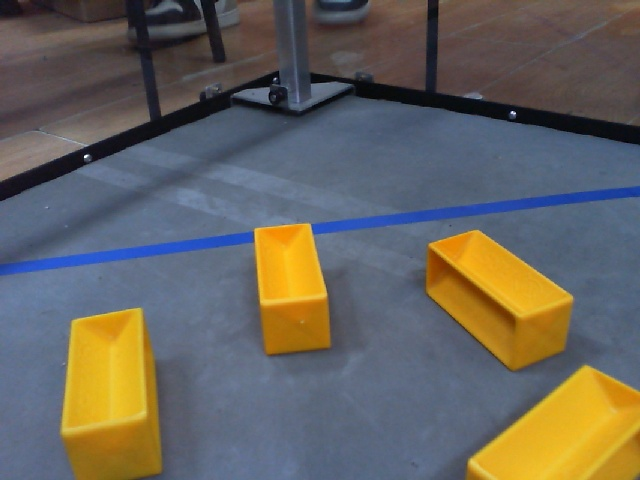YellowSample: (423, 229, 583, 369), (459, 364, 640, 480), (55, 297, 165, 480), (251, 220, 335, 361)
